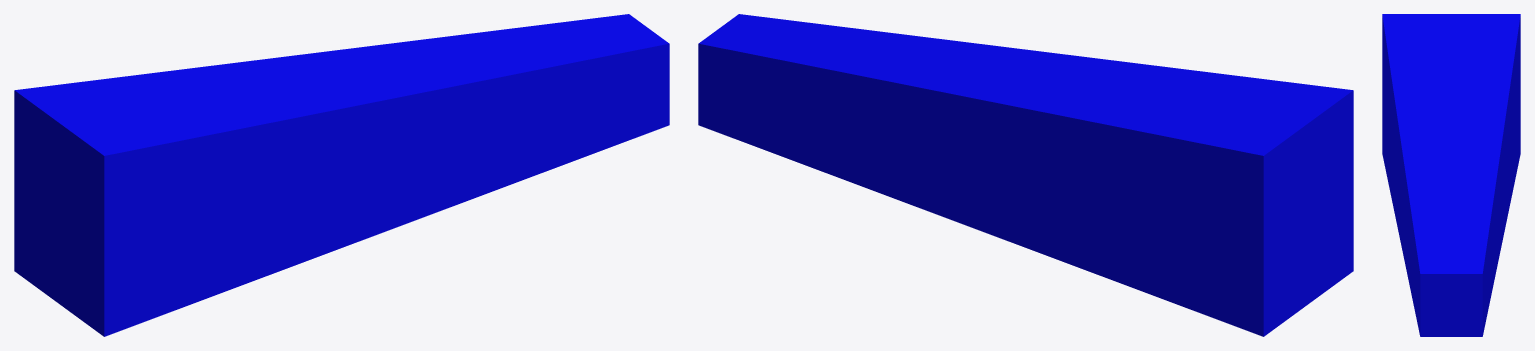
The model's file is phys_player_forearm_blue.glb.
3 renders of one model, left to right at view 1: azimuth 30°, elevation 25°; view 2: azimuth 150°, elevation 25°; view 3: azimuth 270°, elevation 25°, orthographic. The views are drawn at different scales.
Visible parts, largest first — view 1: Cube.003; view 2: Cube.003; view 3: Cube.003.
Part boxes in pixels (x1,y1,x2,y2): Cube.003: (14,14,669,336); Cube.003: (698,14,1353,336); Cube.003: (1382,14,1520,336).
Size of the model in its own units: 1.93 by 0.5667 by 0.5098.
